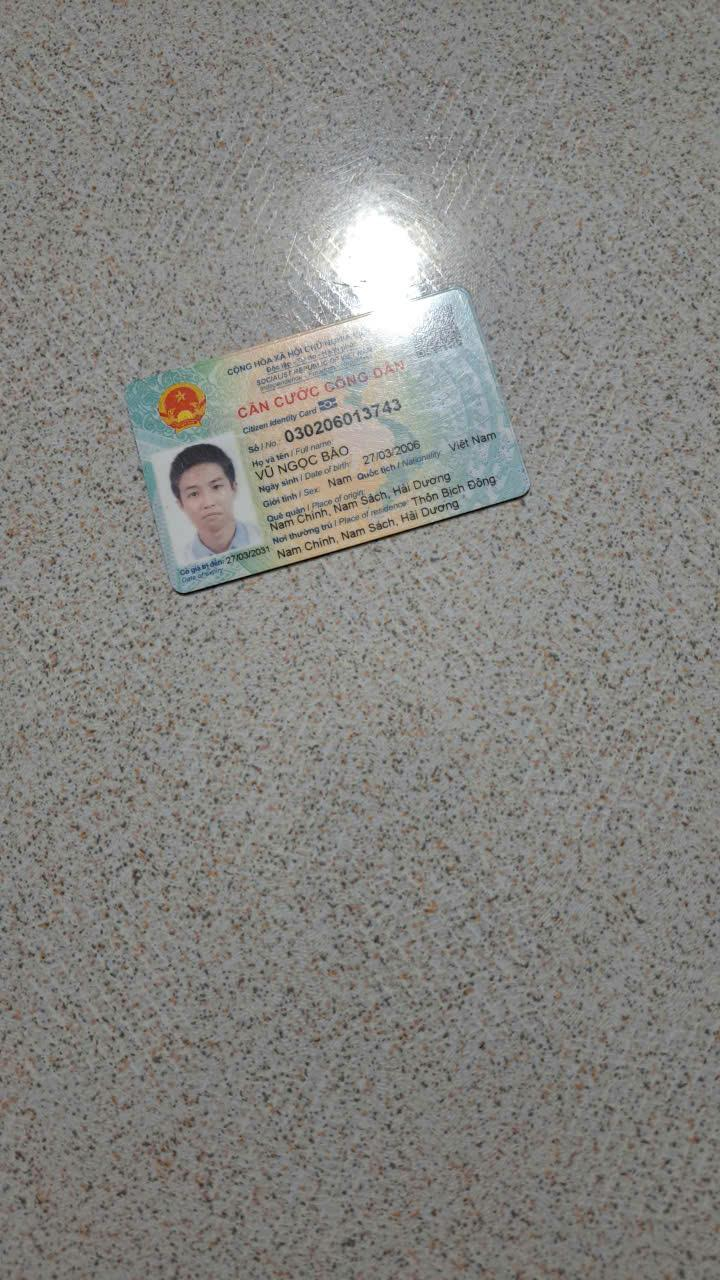cccd: (100, 272, 544, 605)
